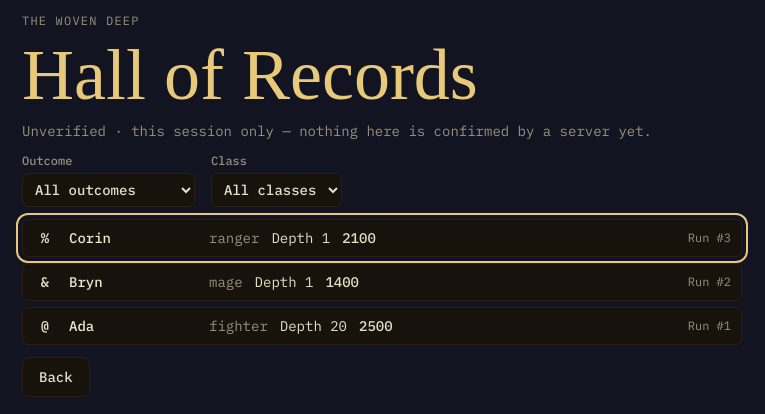
Test: HallScreen › narrows the list with the class filter
Select "ranger" in the dropdown labelled "Class" at (276, 190), box x1=211 y1=173 x2=342 y2=207
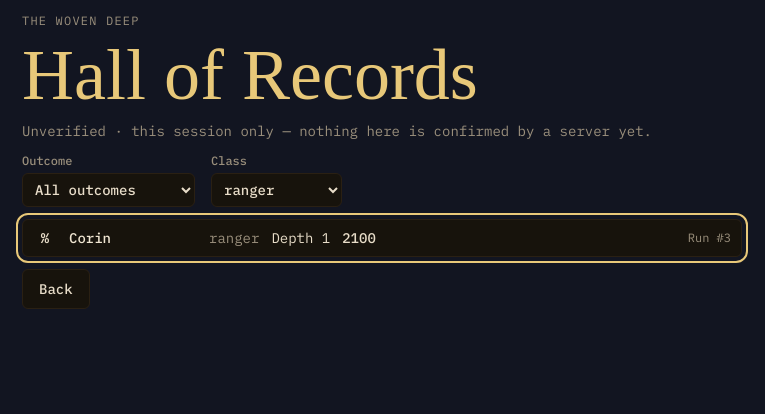
Expected: the text "Corin" is shown, x1=69 y1=229 x2=111 y2=247
Now the number of options is 1, box x1=22 y1=219 x2=742 y2=257
